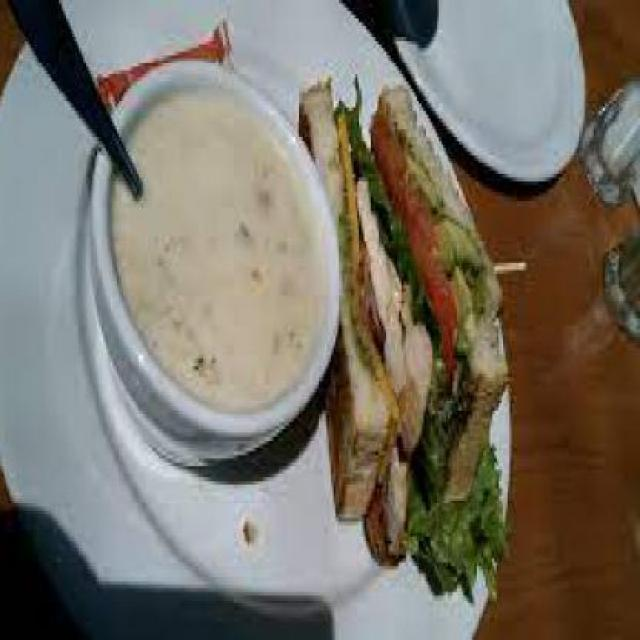clam chowder: (88, 41, 340, 462)
club sandwich: (318, 62, 510, 596)
